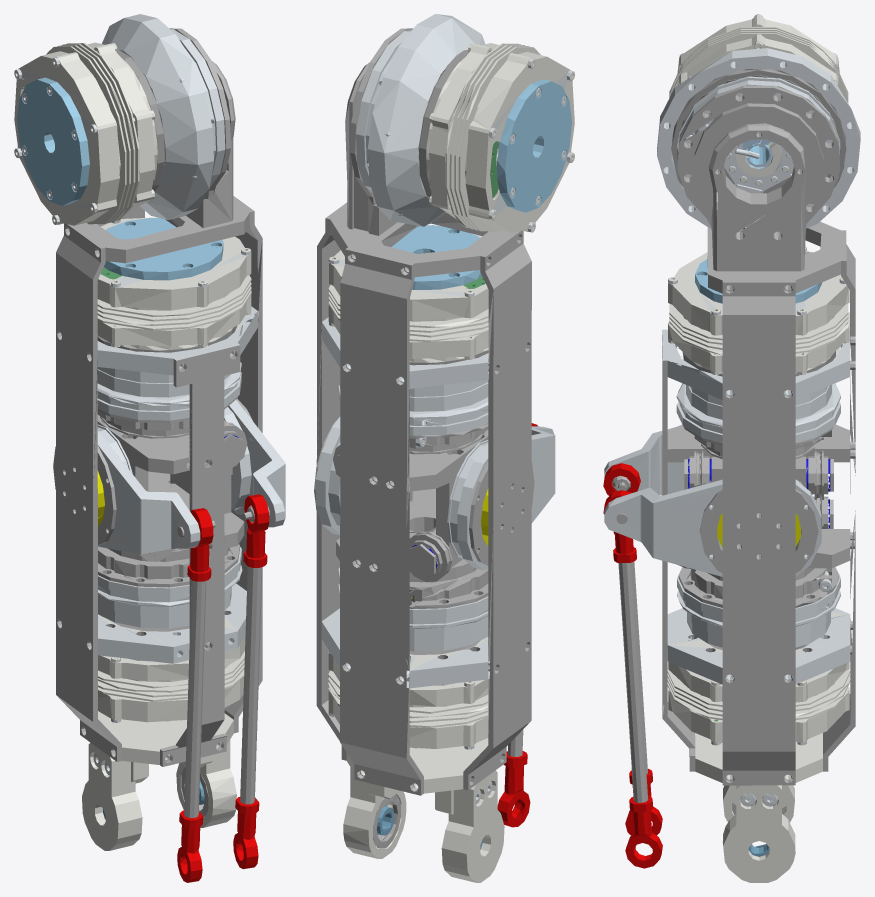
Rendered from Knee.dae.
The picture shows the model from 3 angles, left to right: view 1: azimuth 30°, elevation 25°; view 2: azimuth 150°, elevation 25°; view 3: azimuth 270°, elevation 25°; orthographic projection. The views are drawn at different scales.
Parts seen in each view (by area): view 1: Visualization_LLKnee; view 2: Visualization_LLKnee; view 3: Visualization_LLKnee.
Part boxes in pixels (x1,y1,x2,y2): Visualization_LLKnee: (14, 14, 285, 882); Visualization_LLKnee: (314, 14, 574, 882); Visualization_LLKnee: (603, 14, 860, 882).
Bounding box in the file's own units: 0.1218 × 0.141 × 0.4837.
